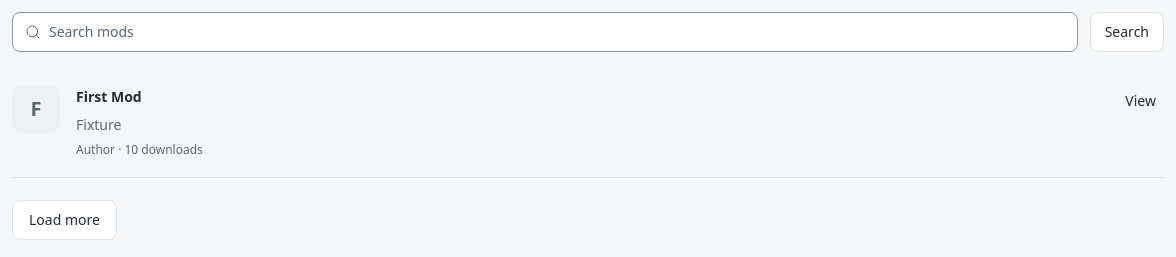
Scenario: keeps cached results during refresh and ignores a superseded response
Type "older" into the search field with placeholder "Search mods" at (563, 32), box [49,13,1077,51]
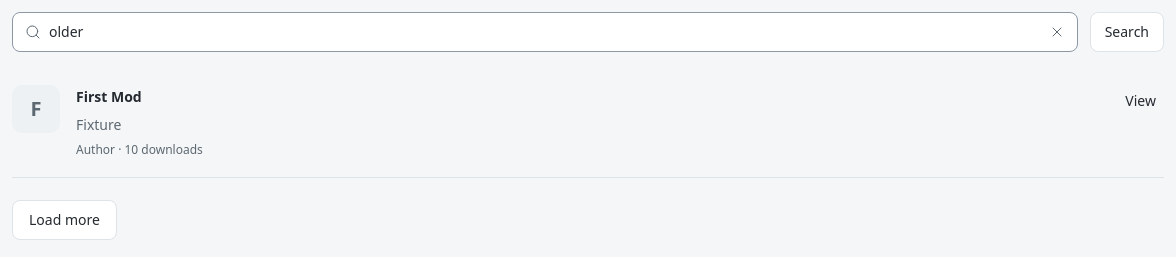
Submit the form, box [12,12,1164,52]
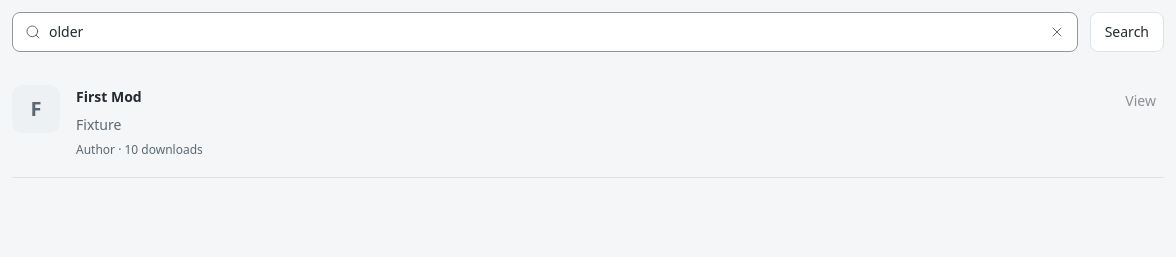
Expected: the text "First Mod" is shown, [76,87,142,106]
Replace the text in the search field named "Search Modrinth mods" with "newer" at (541, 32), box [49,13,1033,51]
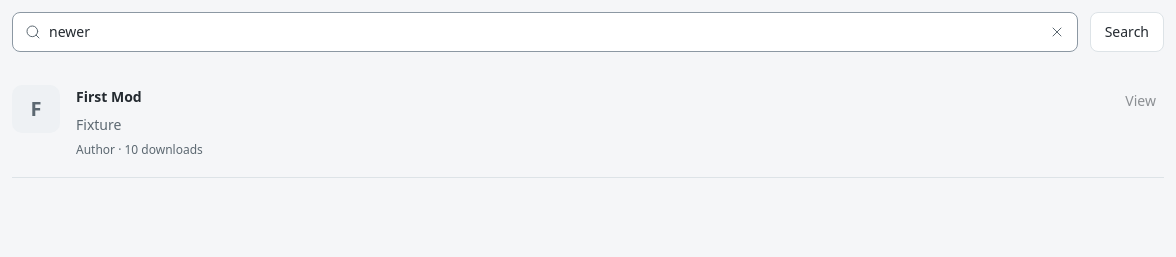
Submit the form, box [12,12,1164,52]
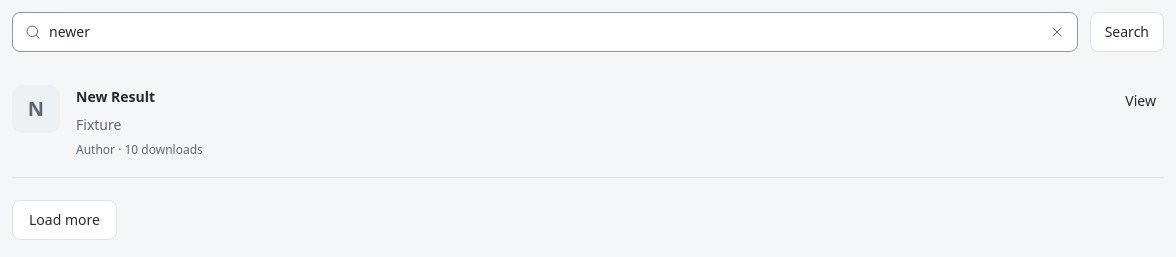
Expected: the text "New Result" is shown, [76,87,155,106]
